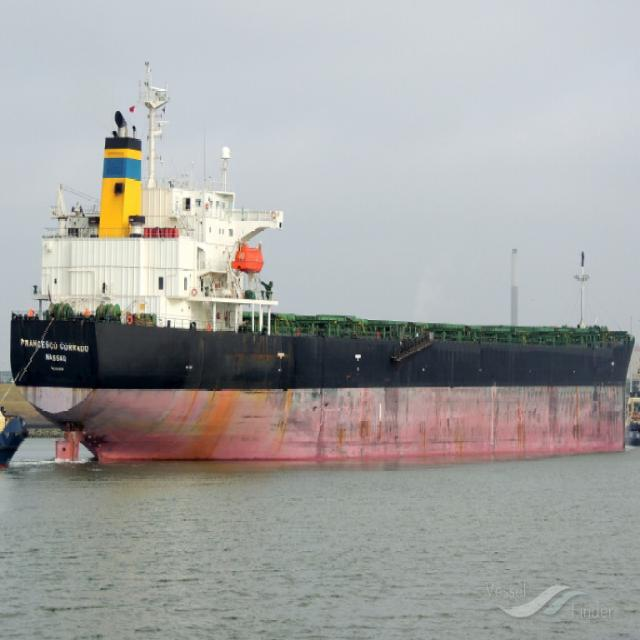OCR: (15, 330, 91, 382)
